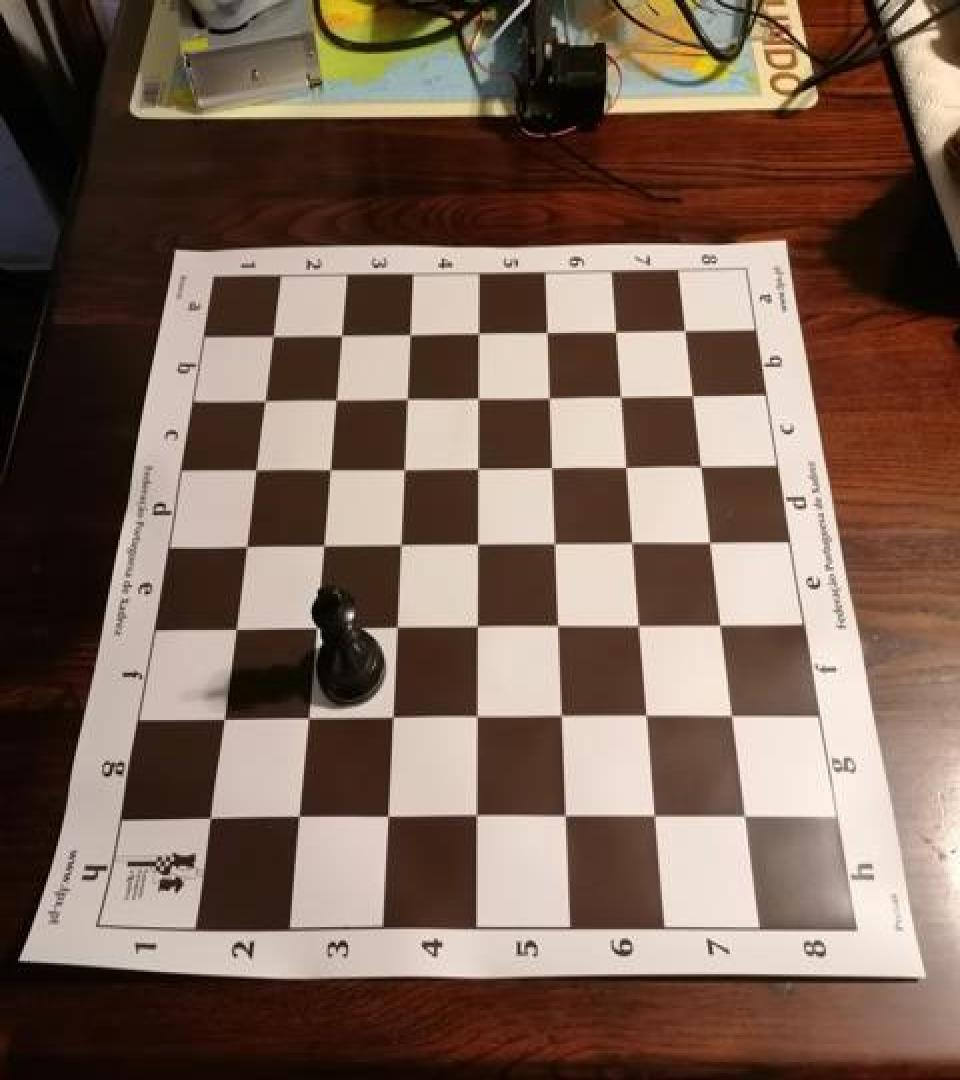xcorner: (666, 310, 698, 346), (597, 310, 629, 346), (528, 312, 560, 348), (459, 313, 491, 349), (391, 314, 423, 350), (323, 314, 355, 350), (255, 315, 287, 351), (675, 374, 707, 410), (602, 374, 634, 410), (530, 376, 562, 412), (459, 376, 491, 412), (387, 377, 419, 413), (317, 378, 349, 414), (246, 378, 278, 414), (684, 443, 716, 479), (608, 444, 640, 480), (533, 444, 565, 480), (310, 446, 342, 482), (237, 448, 269, 484), (694, 520, 726, 556), (614, 520, 646, 556), (536, 521, 568, 557), (458, 521, 490, 557), (380, 521, 412, 557), (303, 522, 335, 558), (227, 522, 259, 558), (705, 603, 737, 639), (622, 603, 654, 639), (539, 603, 571, 639), (457, 604, 489, 640), (376, 604, 408, 640), (296, 604, 328, 640), (215, 604, 247, 640), (717, 695, 749, 731), (629, 695, 661, 731), (543, 695, 575, 731), (457, 694, 489, 730), (372, 694, 404, 730), (287, 694, 319, 730), (203, 694, 235, 730), (730, 796, 762, 832), (638, 796, 670, 832), (547, 796, 579, 832), (456, 796, 488, 832), (367, 794, 399, 830), (278, 794, 310, 830), (189, 793, 221, 829), (458, 446, 490, 481), (384, 446, 416, 481)
